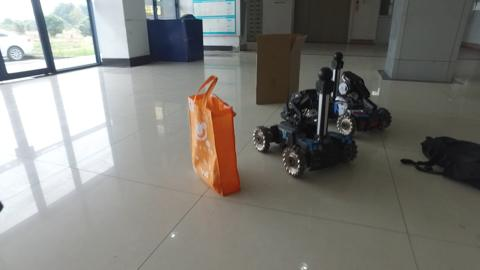bag: (188, 76, 242, 199)
box: (258, 32, 305, 102)
chariot: (256, 67, 355, 178), (331, 50, 395, 136)
